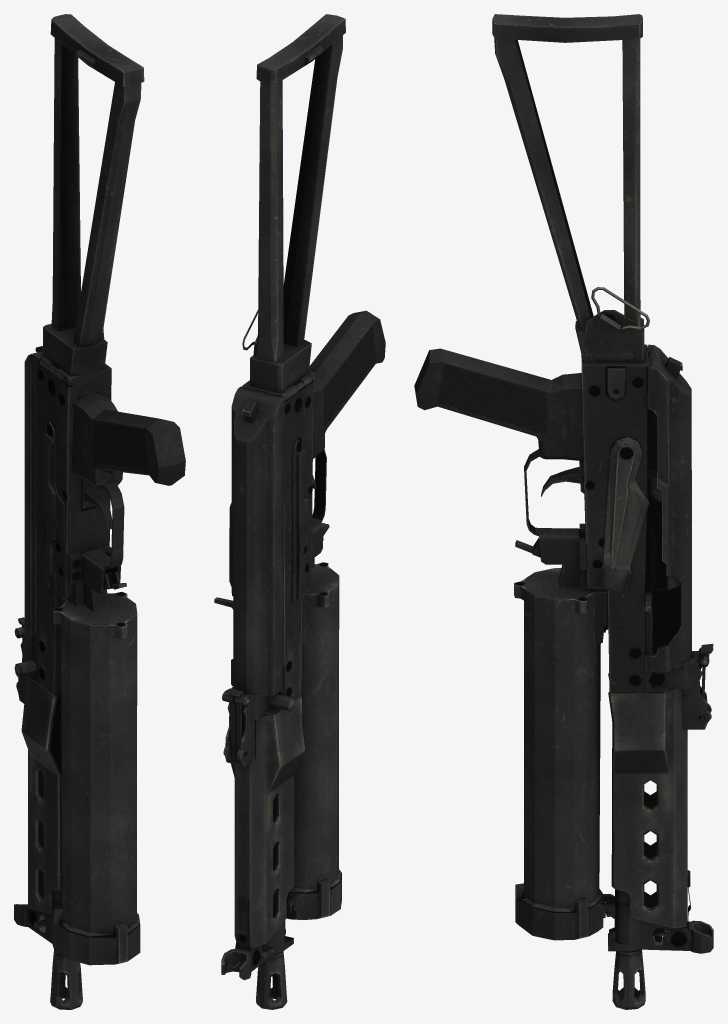
Rendered from w_smg_bizon.obj.
3 renders of one model, left to right at view 1: azimuth 30°, elevation 25°; view 2: azimuth 150°, elevation 25°; view 3: azimuth 270°, elevation 25°, orthographic. The views are drawn at different scales.
Size of the model in its own units: 0.0276 by 0.2986 by 0.0823.
1 material, 1 textured.
